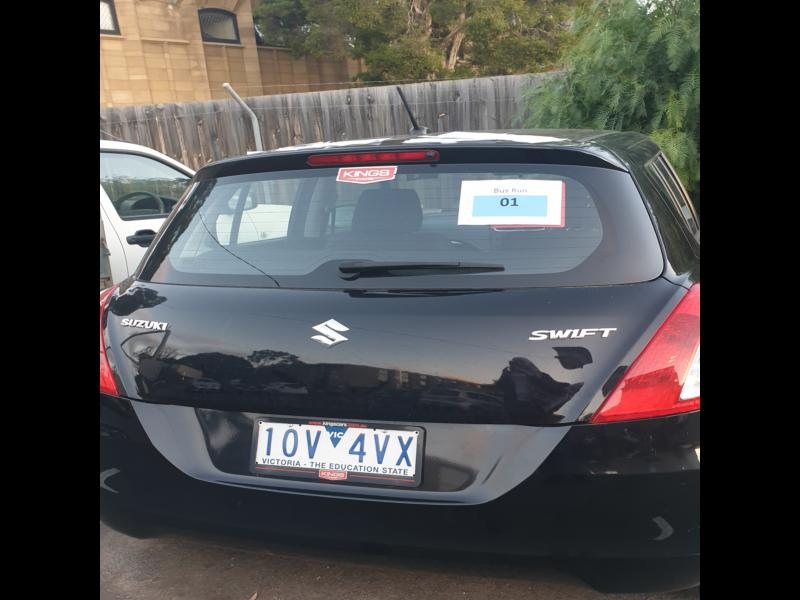BusRun: (471, 194, 547, 215)
PlateNo: (252, 420, 420, 478)
